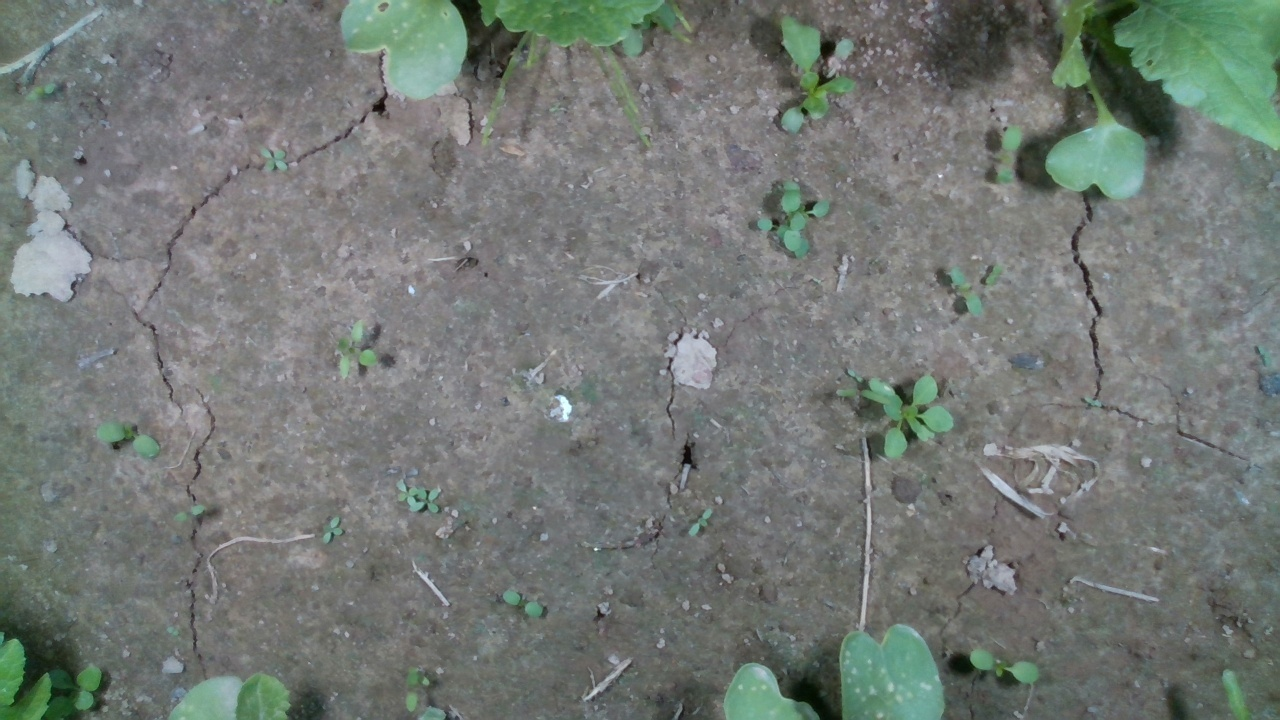weed: (328, 315, 380, 382), (92, 417, 160, 457), (968, 648, 1040, 685), (991, 123, 1024, 189), (949, 265, 983, 316), (501, 589, 545, 617), (170, 501, 208, 525), (256, 145, 289, 172), (319, 515, 345, 545), (688, 506, 712, 537), (404, 664, 419, 713)
